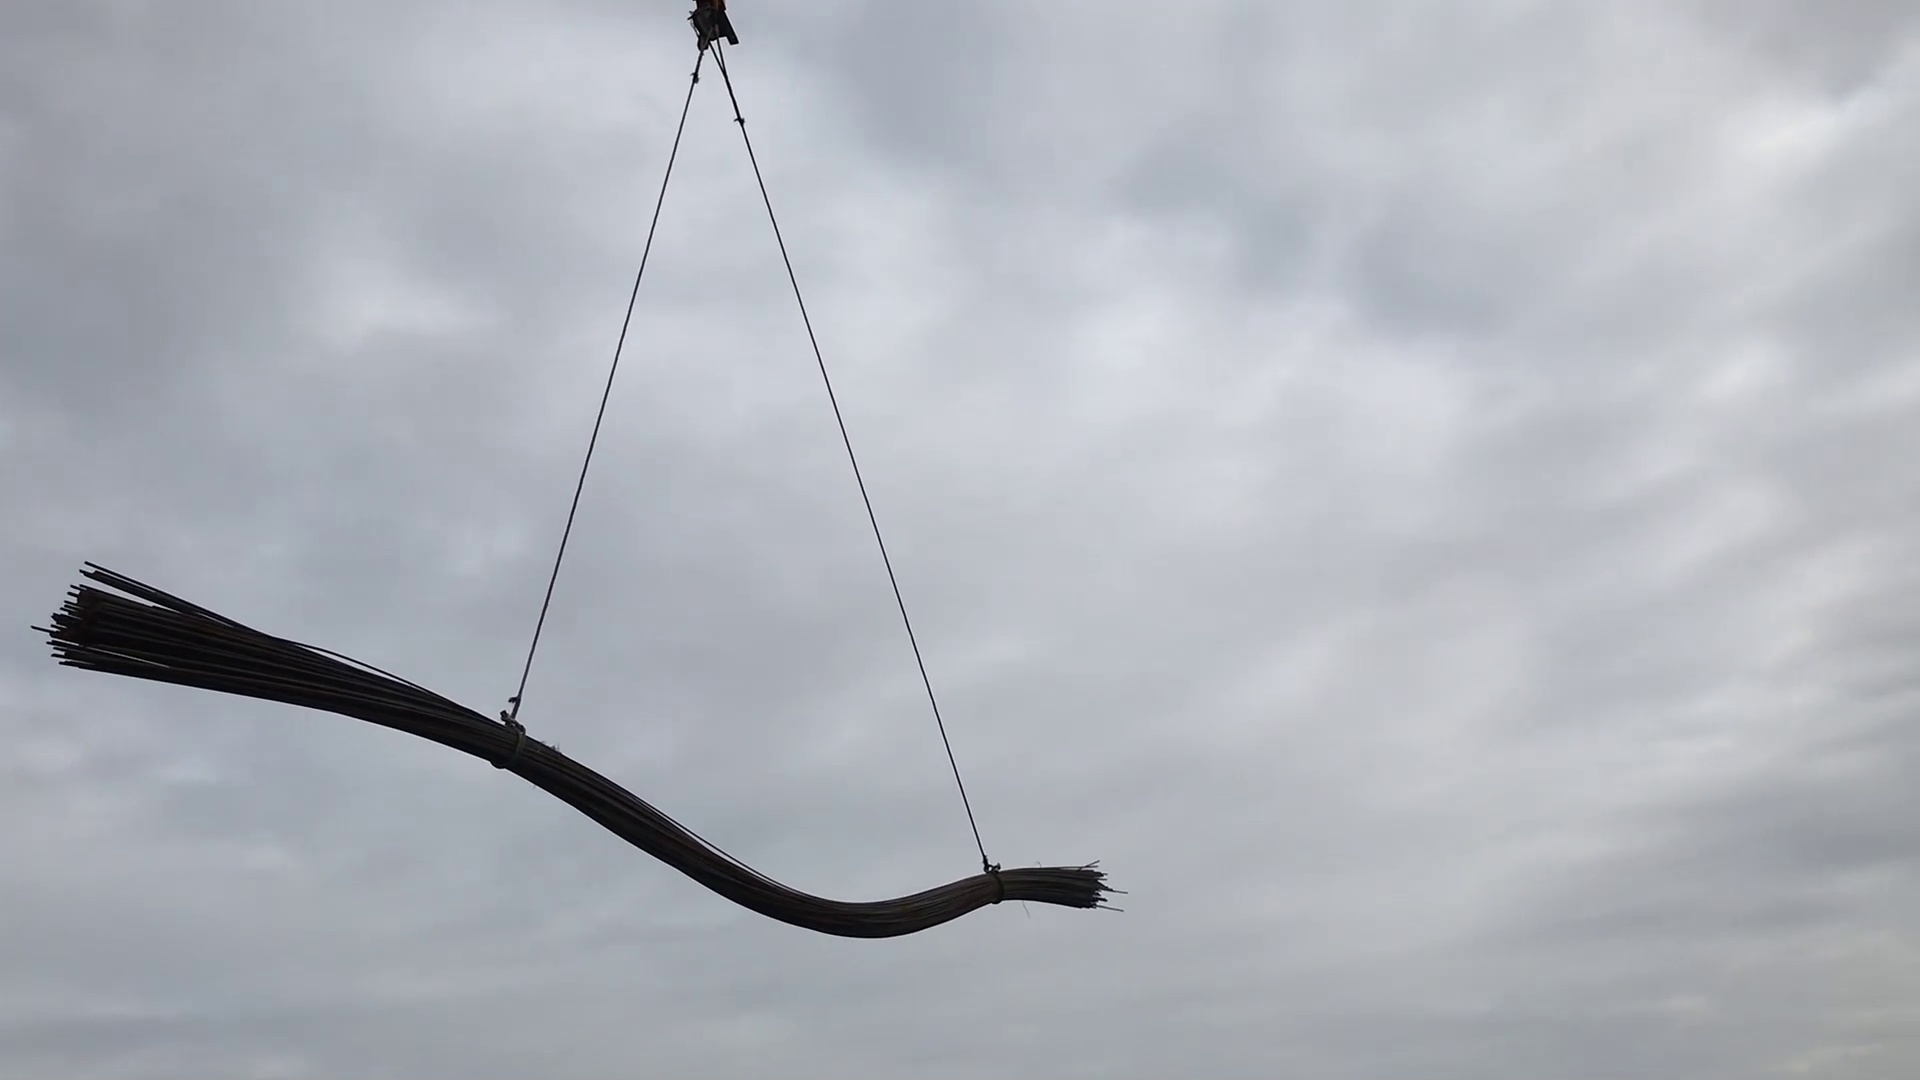hook: (694, 1, 733, 51)
rebar: (26, 621, 514, 713), (524, 752, 713, 869), (752, 866, 931, 949), (934, 852, 1124, 914)
